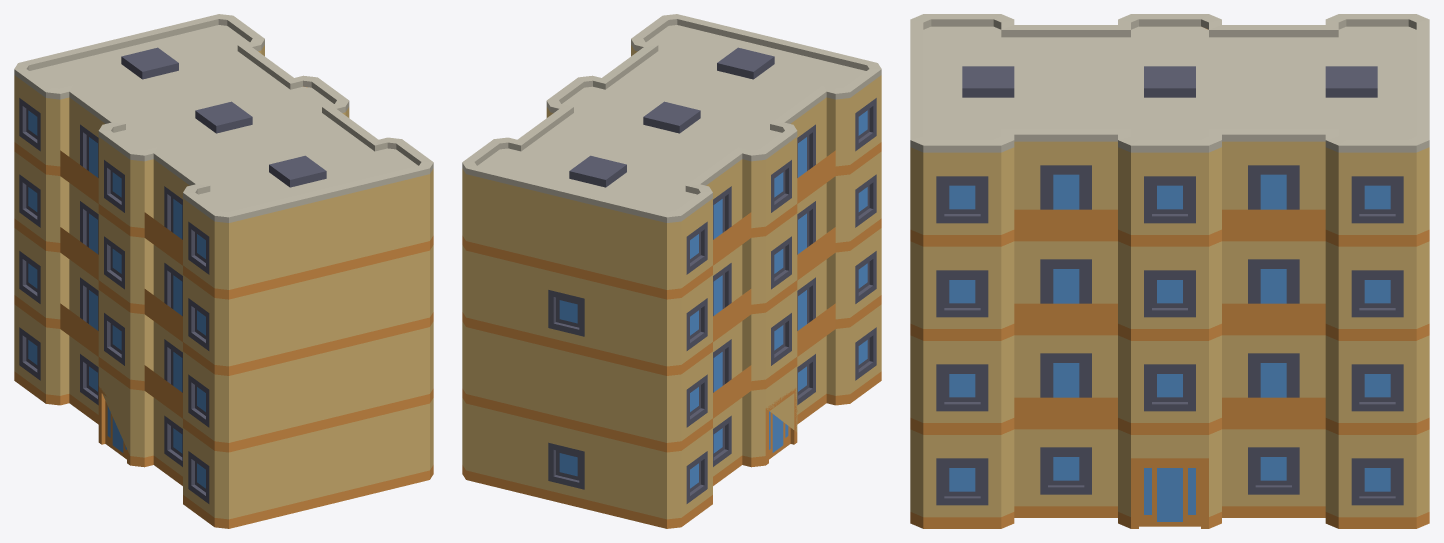
The picture shows the model from 3 angles, left to right: view 1: azimuth 30°, elevation 25°; view 2: azimuth 150°, elevation 25°; view 3: azimuth 270°, elevation 25°; orthographic projection. The views are drawn at different scales.
Parts seen in each view (by area): view 1: predio 4.002; view 2: predio 4.002; view 3: predio 4.002.
Boxes of the visible parts, x1,y1,x2,y2 form: predio 4.002: (14, 14, 433, 528); predio 4.002: (462, 14, 881, 528); predio 4.002: (910, 14, 1429, 528).
Size of the model in its own units: 5589 by 7638 by 9315.
